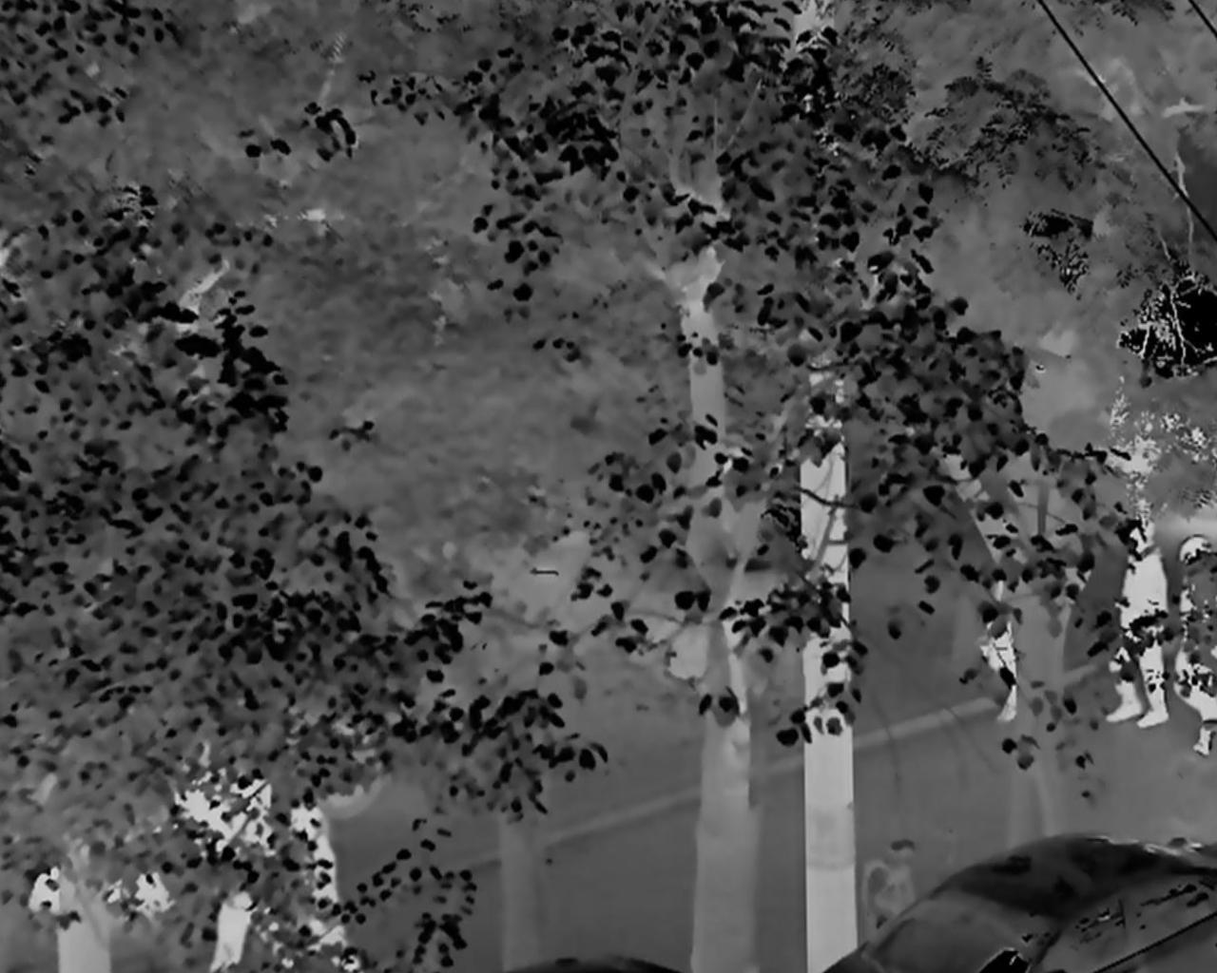person: (1107, 512, 1173, 733), (283, 801, 359, 973), (1175, 540, 1217, 755)
